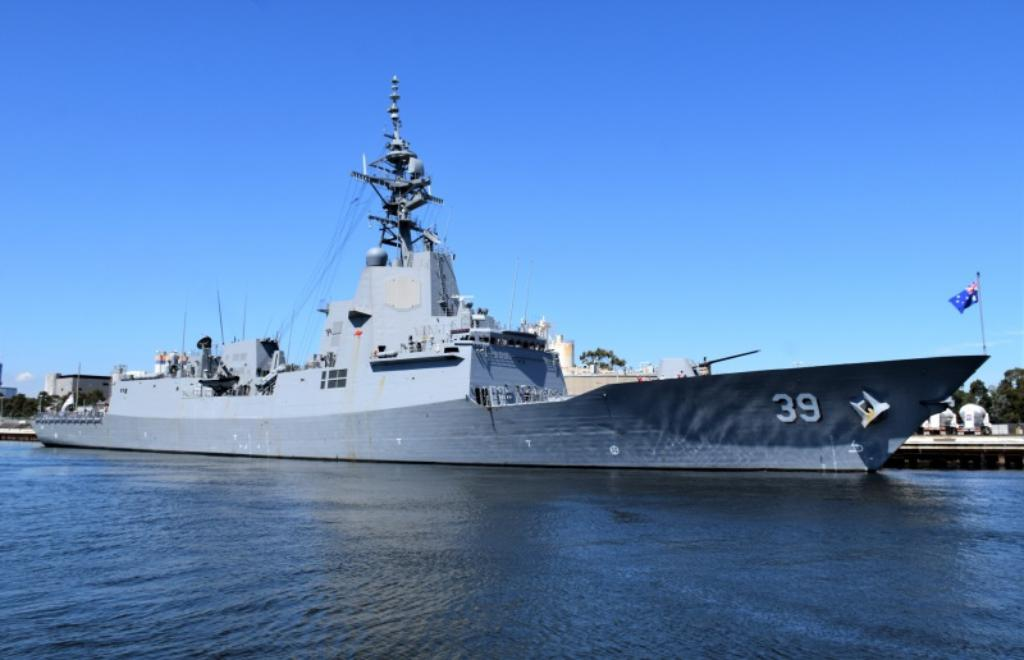Warship: (28, 66, 990, 475)
